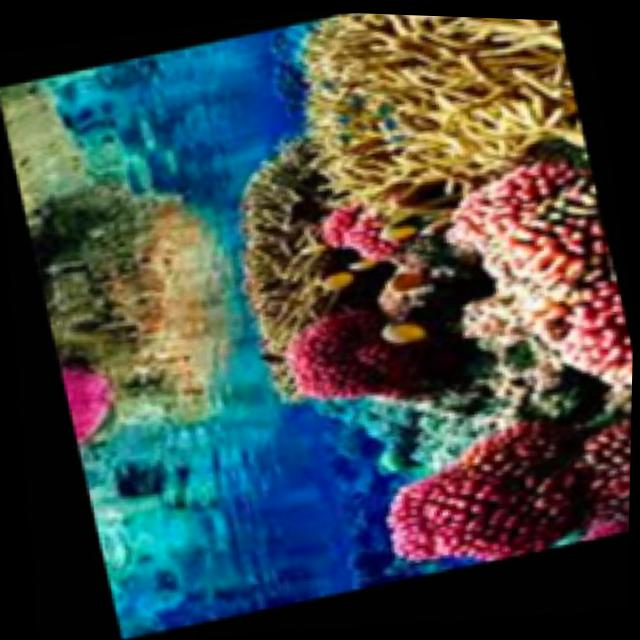Dead Coral: (194, 142, 350, 362)
